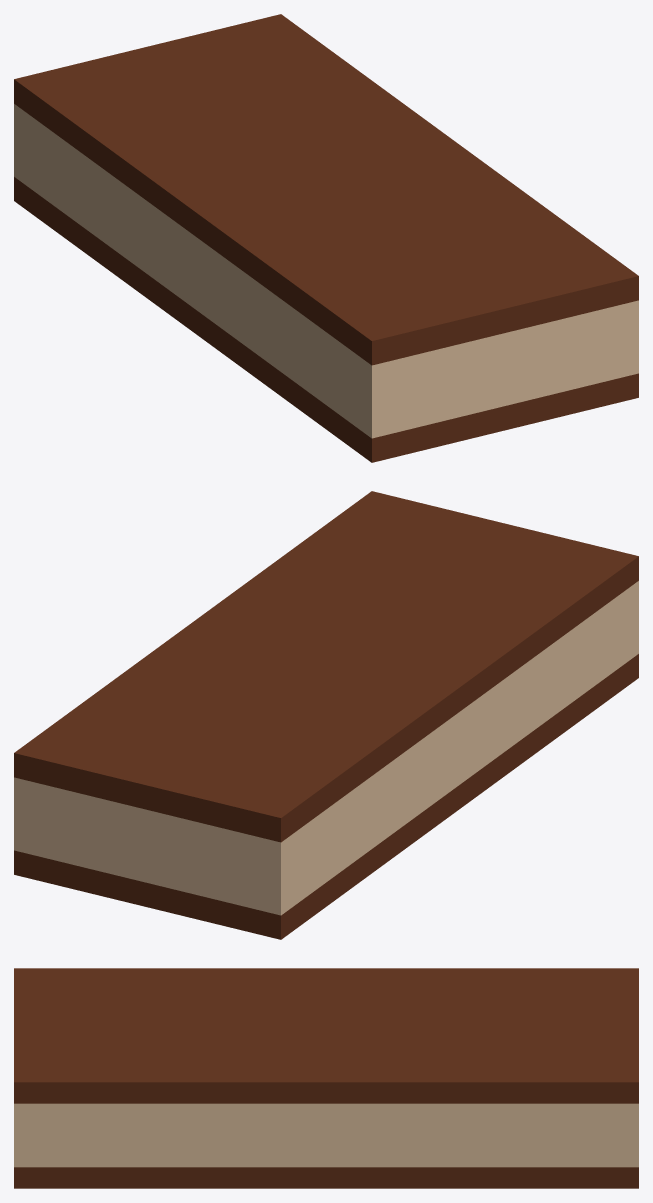
Rendered from MilkyBar_01.fbx.
The picture shows the model from 3 angles, top to bottom: view 1: azimuth 30°, elevation 25°; view 2: azimuth 150°, elevation 25°; view 3: azimuth 270°, elevation 25°; orthographic projection. The views are drawn at different scales.
Visible parts, largest first — view 1: MilkyBar_01; view 2: MilkyBar_01; view 3: MilkyBar_01.
Boxes of the visible parts, left/top/right/bottom form: MilkyBar_01: left=14, top=14, right=638, bottom=462; MilkyBar_01: left=14, top=491, right=638, bottom=939; MilkyBar_01: left=14, top=968, right=638, bottom=1188.
Size of the model in its own units: 0.0547 by 0.0238 by 0.1269.
